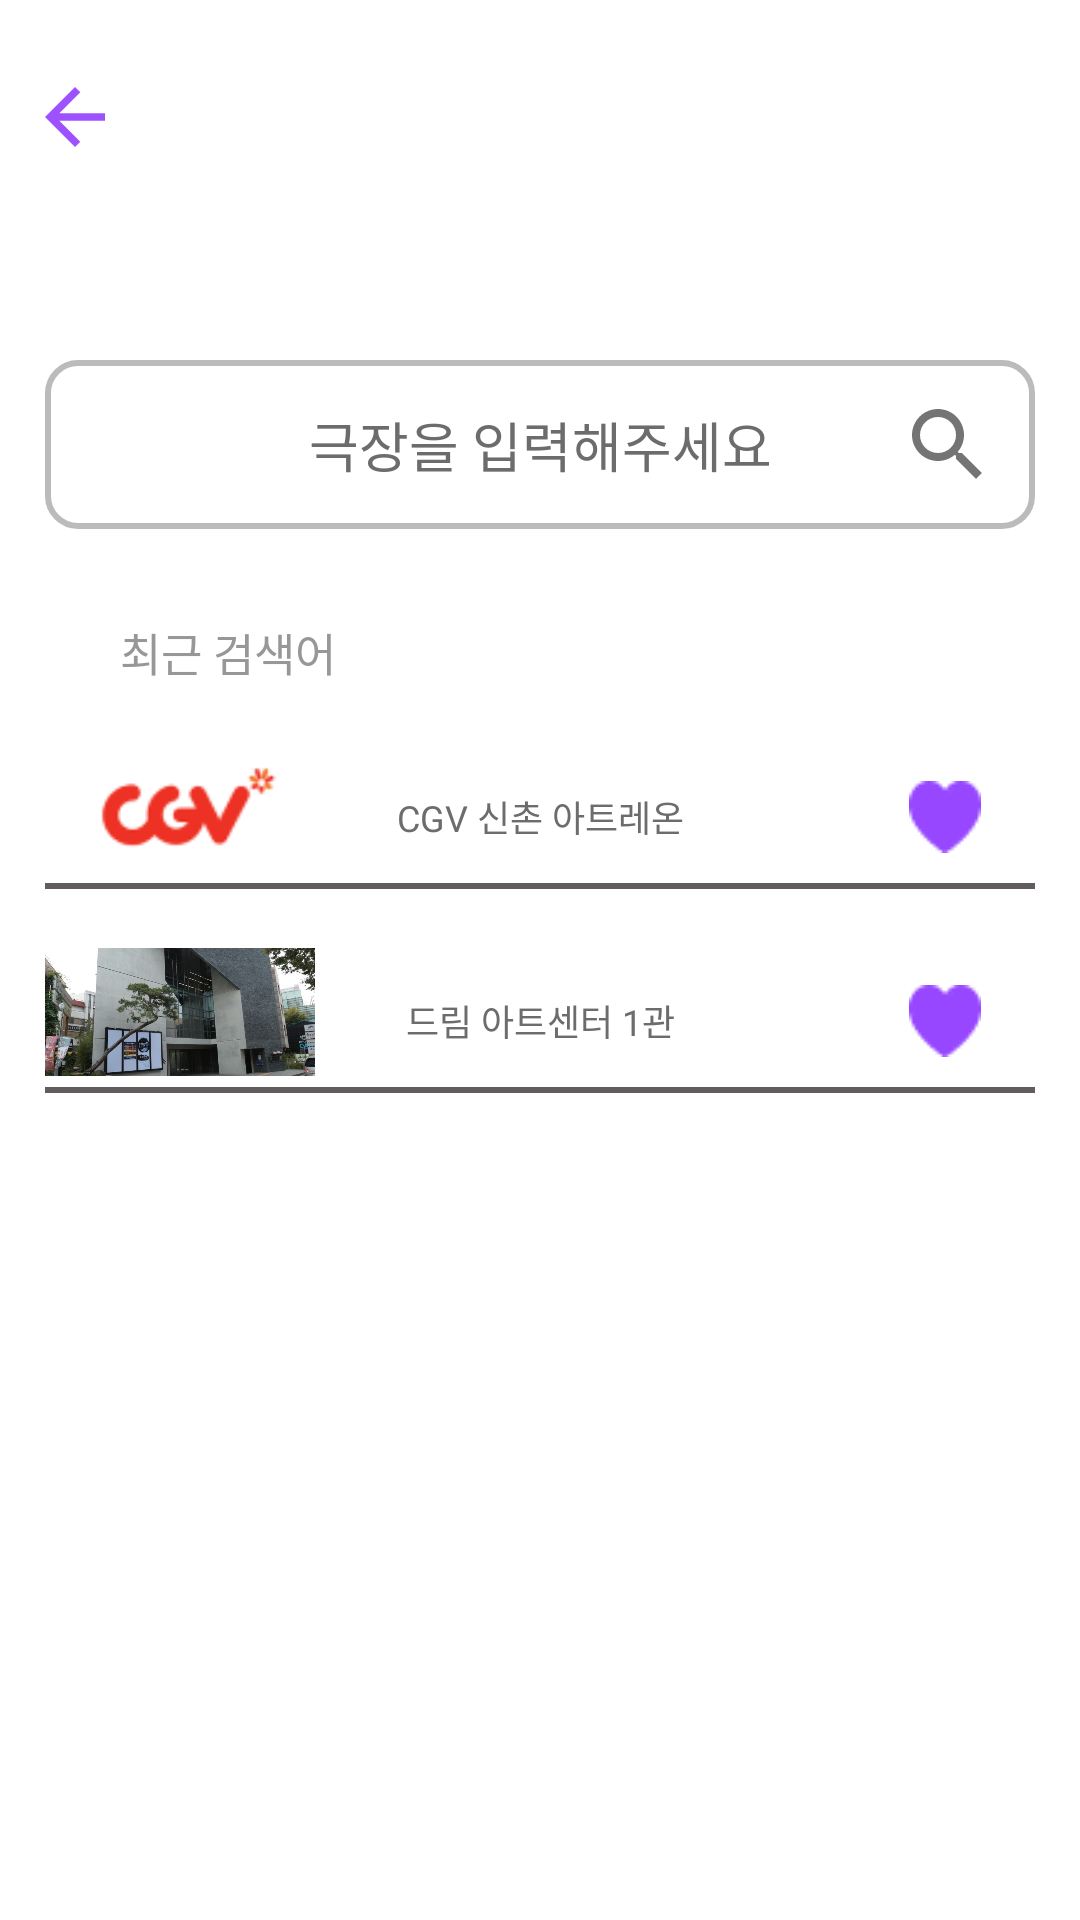

Named icons in this screenshot (1080px×1920px) and their centers, point (x, y):
back: point (75, 117)
search: point (947, 444)
